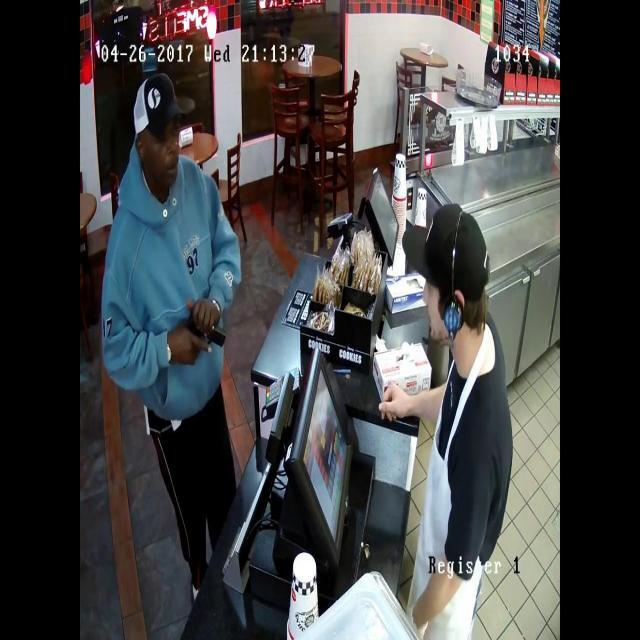weapon: (170, 308, 233, 361)
